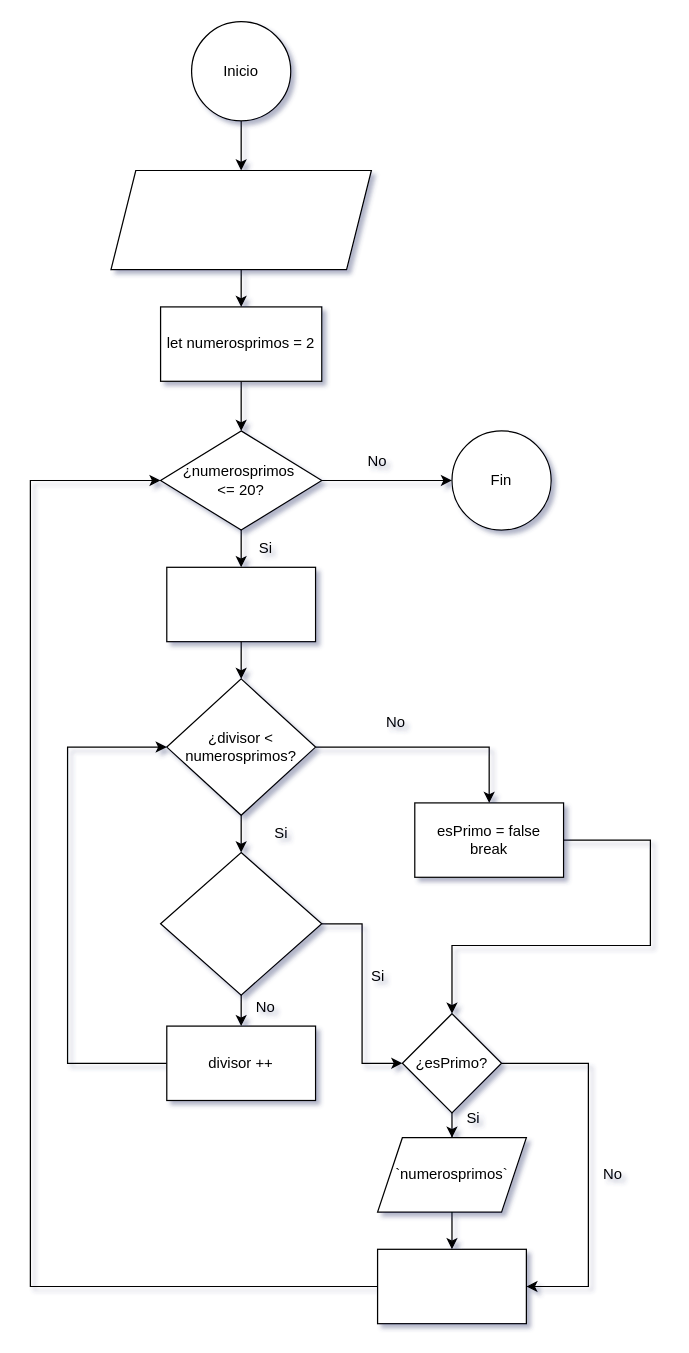
The diagram is 689 pixels wide and 1353 high, and some of its shapes have lost their labels. The centre of each missing label's shape, as x and y in pixels:
"Numeros primos del 1 al 20": point 240,219
let esPrimo = true let divisor = 2: point 241,604
numerosprimos ++: point 451,1286
¿numerosprimos % divisor == 0?: point 240,923
